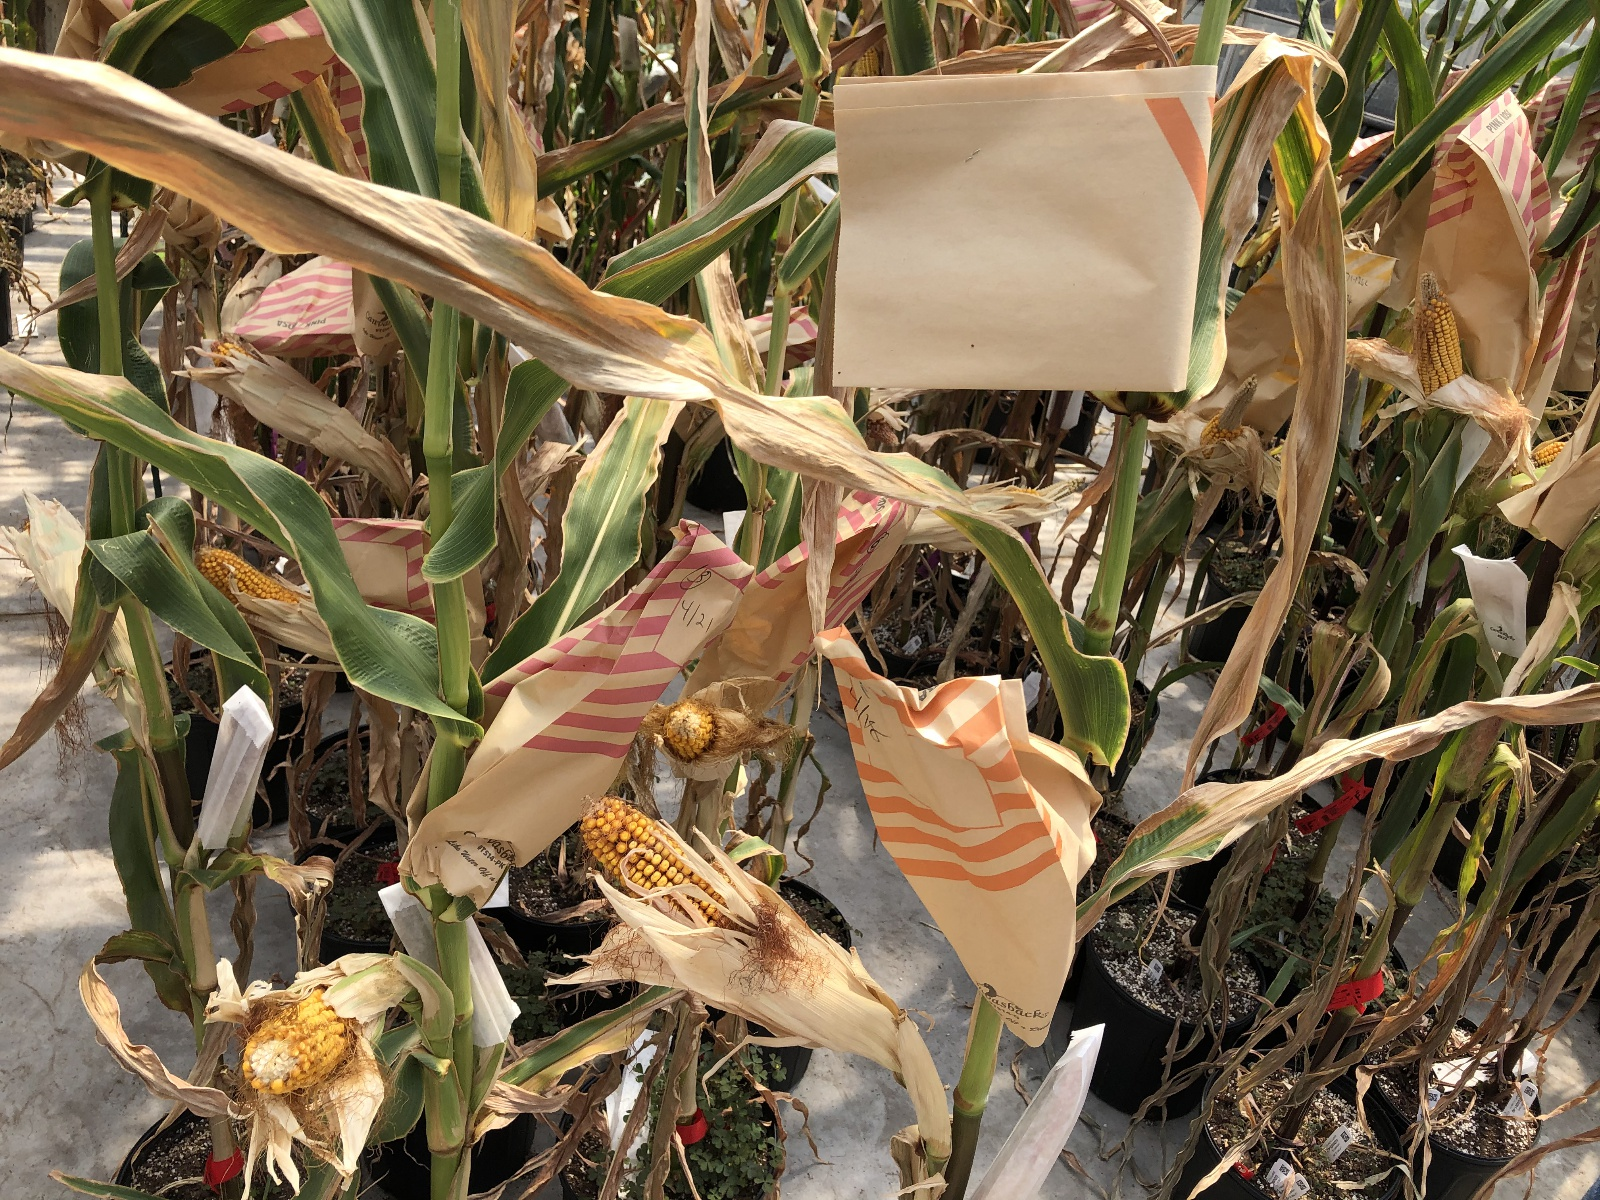ear: (574, 783, 901, 1058), (24, 505, 139, 692), (193, 534, 335, 655), (204, 338, 346, 442), (238, 986, 355, 1095), (1406, 270, 1471, 405), (1194, 372, 1267, 458), (643, 693, 724, 766), (1534, 434, 1571, 471)
